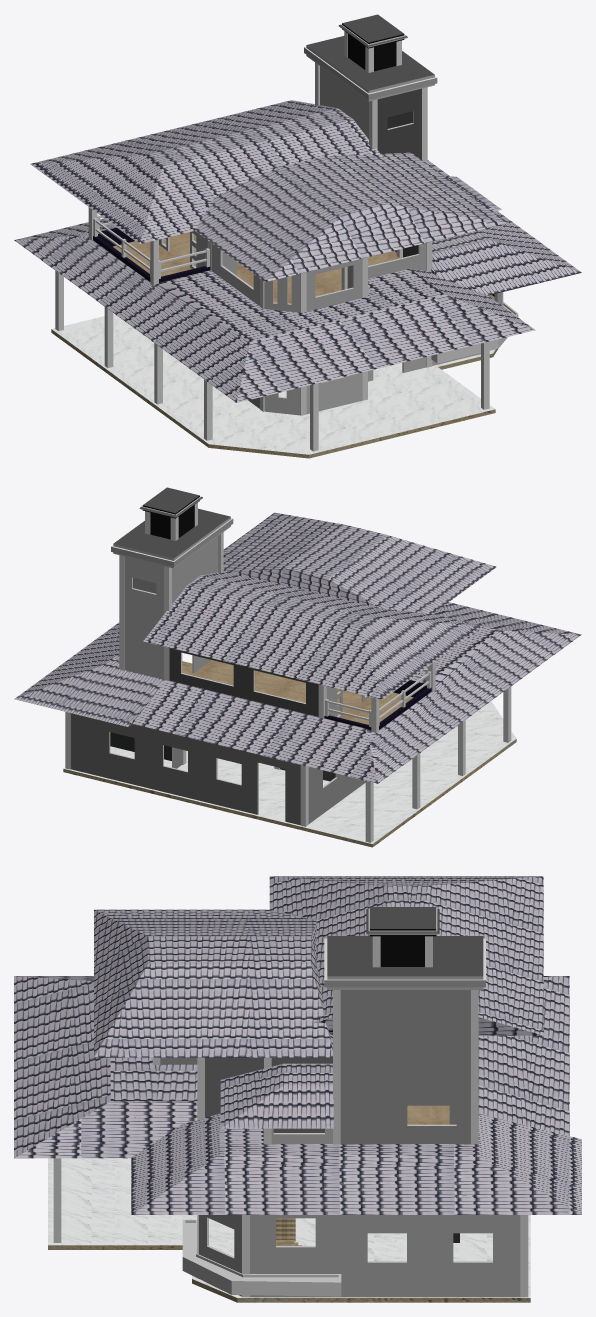
The model's file is Casa C3-02.fbx.
3 views of the same model, one above another, from view 1: azimuth 30°, elevation 25°; view 2: azimuth 150°, elevation 25°; view 3: azimuth 270°, elevation 25° (orthographic). The views are drawn at different scales.
Parts seen in each view (by area): view 1: Cubo.009; view 2: Cubo.009; view 3: Cubo.009.
Boxes of the visible parts, <box> form: Cubo.009: <box>14,14,581,458</box>; Cubo.009: <box>14,487,581,847</box>; Cubo.009: <box>14,876,581,1302</box>.
Size of the model in its own units: 3527 by 2366 by 3540.
31 materials, 10 textured.
